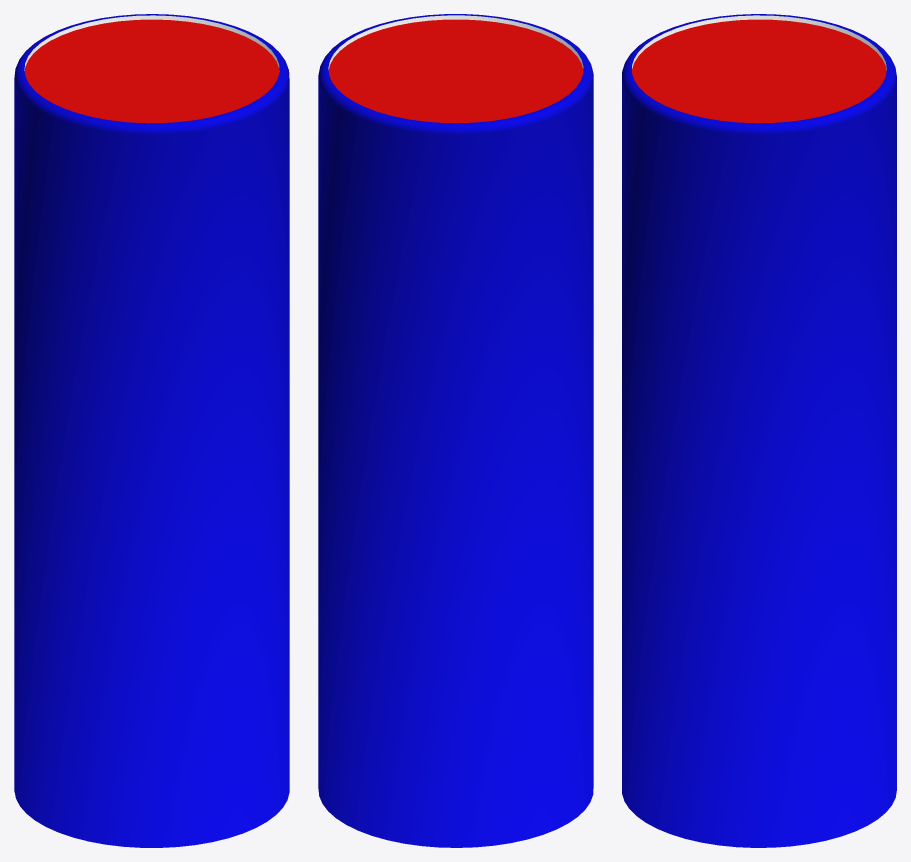
The model's file is geo_arena_02.fbx.
3 views of the same model, side by side, from view 1: azimuth 30°, elevation 25°; view 2: azimuth 150°, elevation 25°; view 3: azimuth 270°, elevation 25° (orthographic).
Visible parts, largest first — view 1: Cylinder; view 2: Cylinder; view 3: Cylinder.
Boxes of the visible parts, bbox=[...] form: Cylinder: bbox=[14, 14, 289, 847]; Cylinder: bbox=[318, 14, 593, 847]; Cylinder: bbox=[622, 14, 896, 847].
Bounding box in the file's own units: 200 × 578 × 200.
